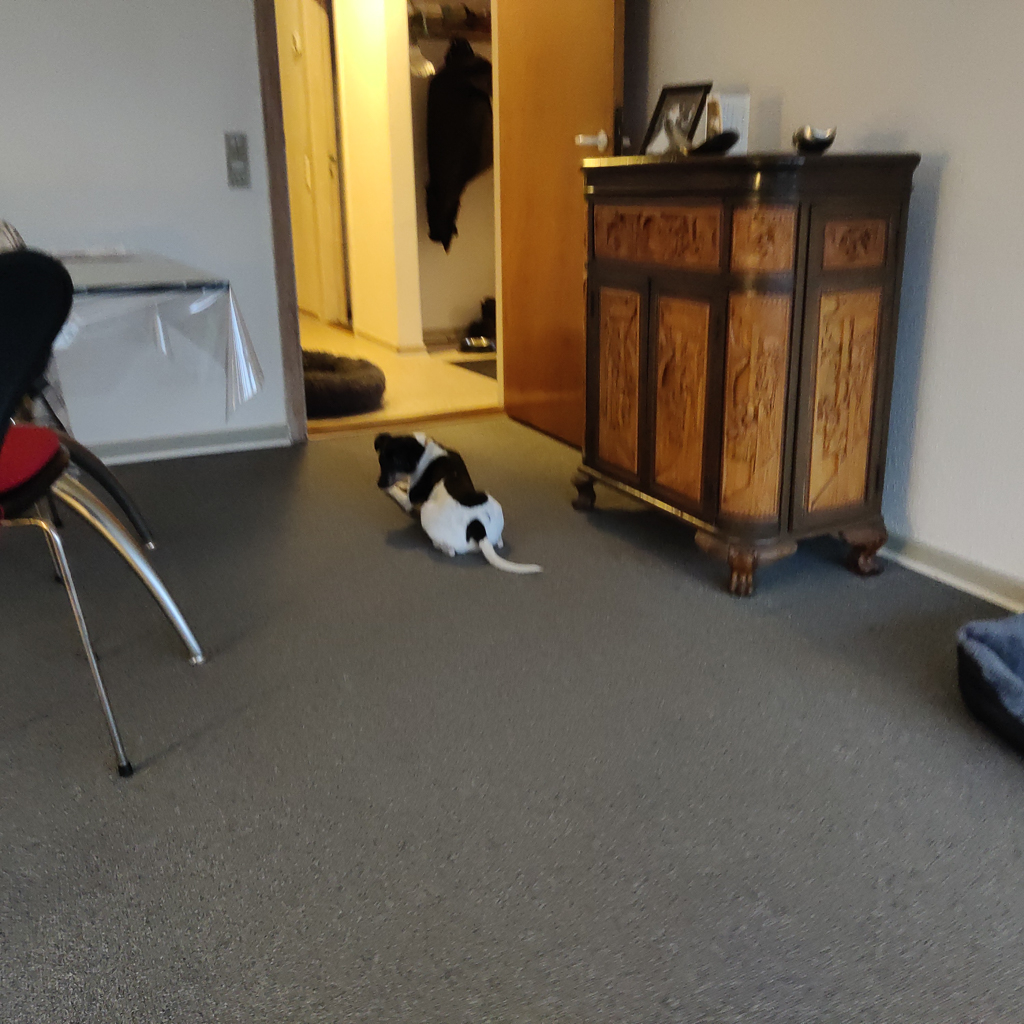Dog: (368, 423, 553, 584)
